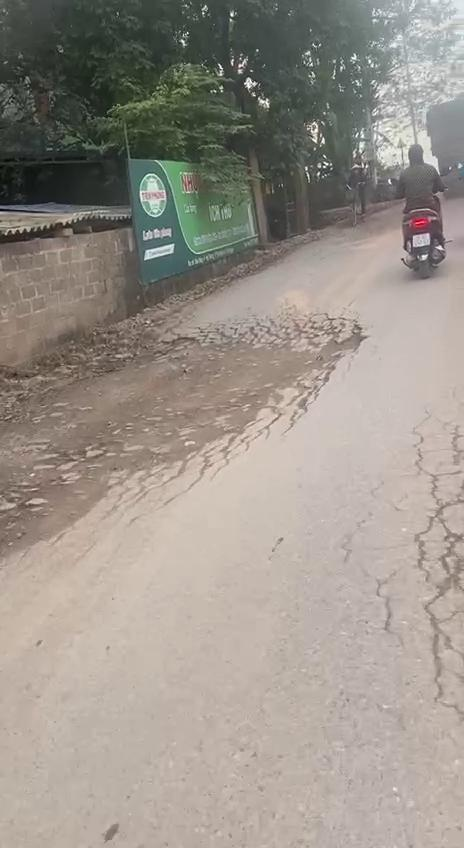pothole: (0, 306, 356, 532)
